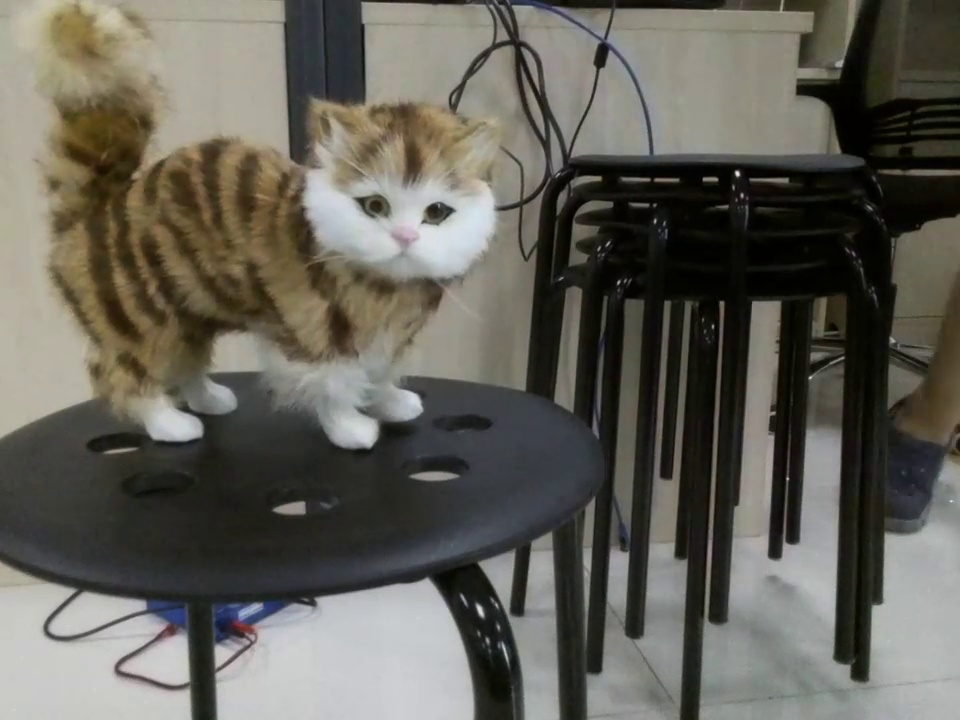cat: (40, 1, 496, 454)
